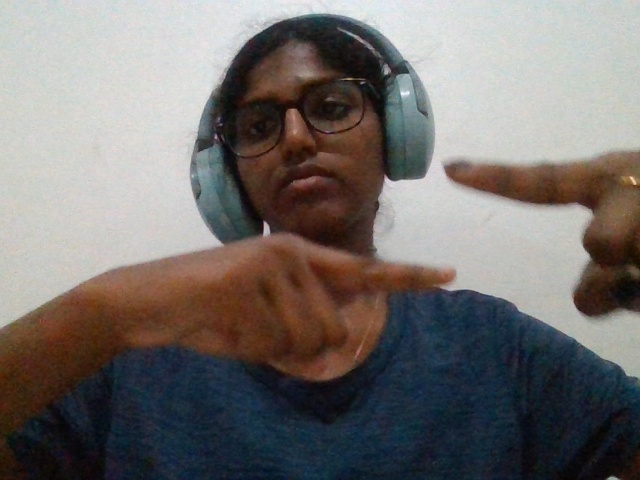Sign: (30, 123, 640, 383)
